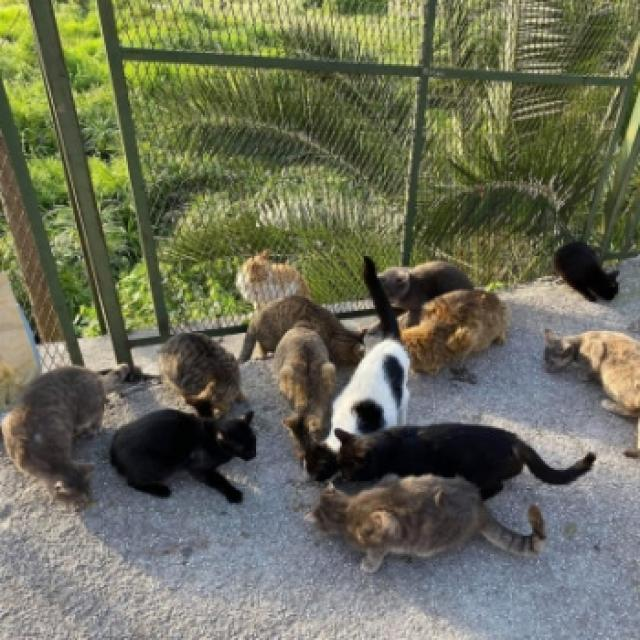cat: (305, 259, 410, 481), (306, 476, 544, 572), (335, 423, 595, 499), (3, 365, 141, 504), (110, 409, 255, 503), (239, 296, 364, 366), (545, 330, 640, 418), (274, 325, 336, 458), (160, 334, 244, 417), (379, 261, 474, 326), (414, 290, 510, 351), (403, 320, 476, 383), (235, 250, 311, 309), (554, 243, 619, 301)
